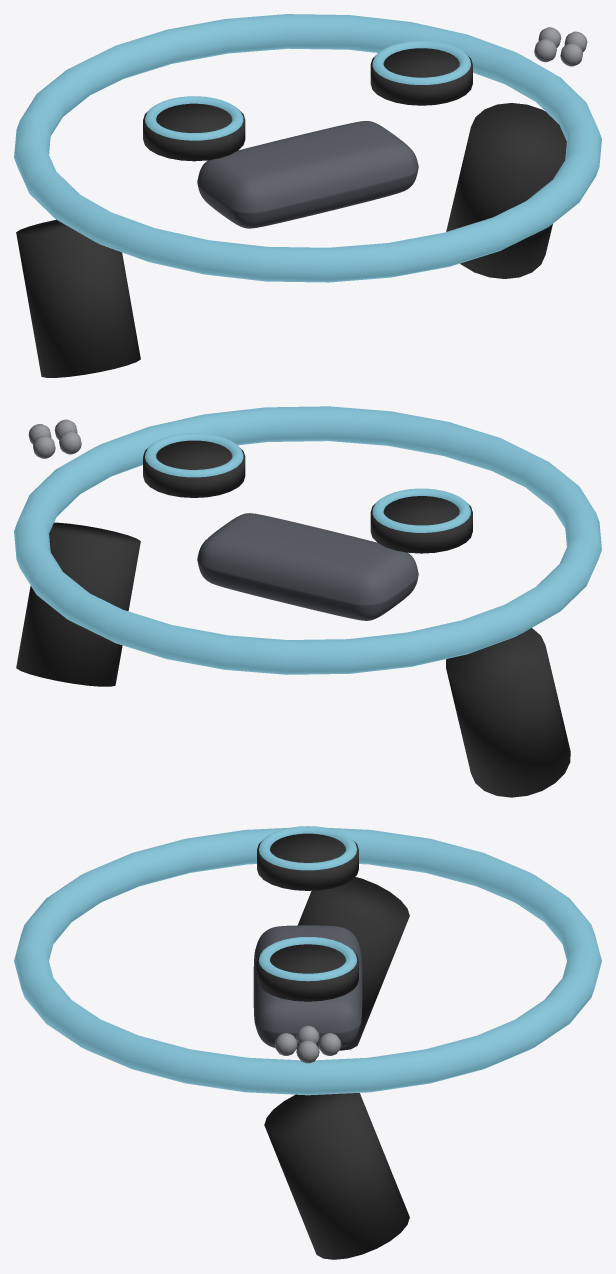
The model's file is controller.glb.
The picture shows the model from 3 angles, top to bottom: view 1: azimuth 30°, elevation 25°; view 2: azimuth 150°, elevation 25°; view 3: azimuth 270°, elevation 25°; orthographic projection.
Visible parts, largest first — view 1: Controller; view 2: Controller; view 3: Controller.
Part boxes in pixels (x1,y1,x2,y2): Controller: (14,14,601,377); Controller: (14,406,601,797); Controller: (14,826,601,1259).
Size of the model in its own units: 0.4246 by 0.1848 by 0.404.
